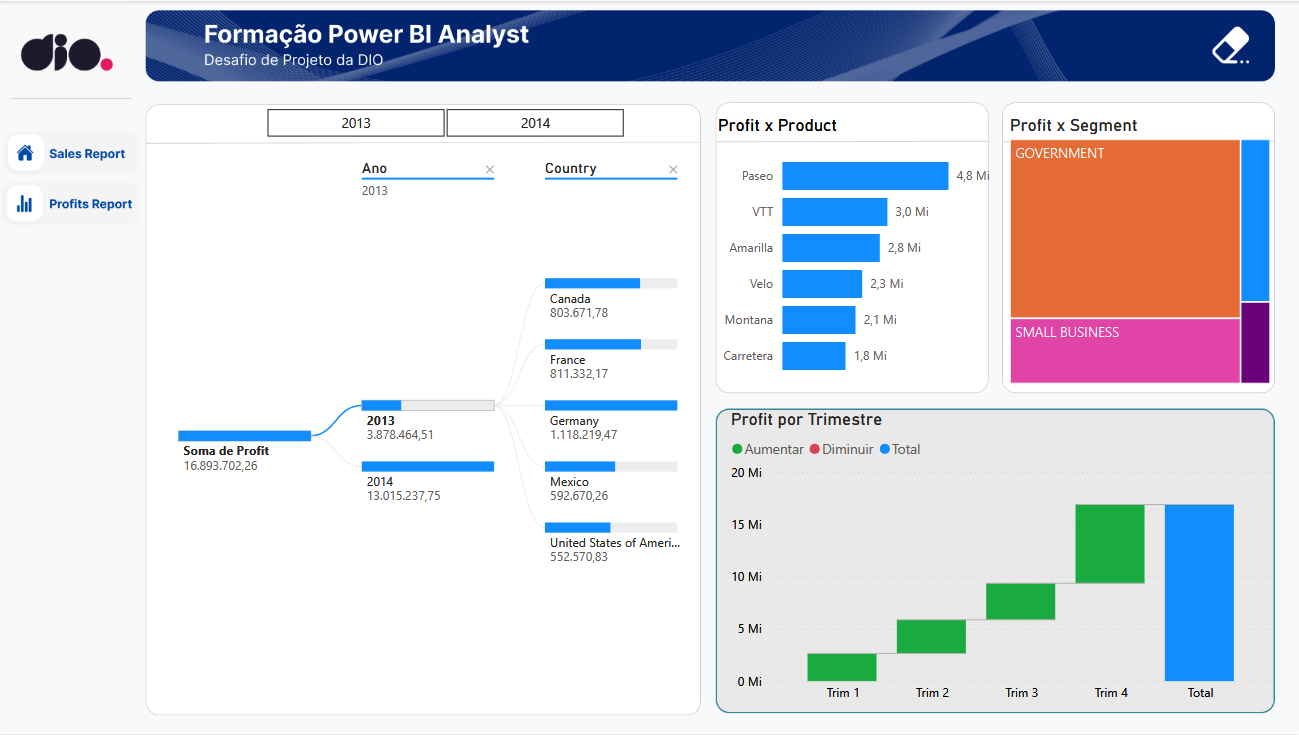

This screenshot's page, from the dashboard's own definition file:
{"tool":"powerbi","page":{"name":"Página 2","canvas":[1280,720],"ordinal":1},"visuals":[{"type":"treemap","title":"Profit x Segment","fields":{"Values":["Sum(financials.Profit)"],"Group":["financials.Segment"]},"box":[990.6,112,265.3,268.7],"z":0},{"type":"actionButton","box":[9.9,127.6,129,45.4],"z":3000},{"type":"waterfallChart","title":"Profit por Trimestre","fields":{"Category":["financials.Date.Variation.Hierarquia de datas.Trimestre"],"Y":["Sum(financials.Profit)"]},"box":[715.7,401.1,541.4,297.6],"z":4000},{"type":"clusteredBarChart","title":"Profit x Product","fields":{"Y":["Sum(financials.Profit)"],"Category":["financials.Product"]},"box":[702.9,112,277.4,270.5],"z":5000},{"type":"decompositionTreeVisual","fields":{"ExplainBy":["financials.Date.Variation.Hierarquia de datas.Ano","financials.Country"],"Analyze":["Sum(financials.Profit)"]},"box":[148.8,138.9,542.8,555.6],"z":6000},{"type":"slicer","fields":{"Values":["financials.Date.Variation.Hierarquia de datas.Ano"]},"box":[239.6,99.3,400.4,39.9],"z":6001},{"type":"actionButton","box":[1176.2,17.1,70.7,57],"z":6002}]}

Visuals, with their boxes on the page's 1280x720 design canvas (x1, y1, x2, y2). These are canvas units, not pixel positions in the 1299x735 screenshot, which may show the page scaled, cropped or inside an application window:
"Profit x Segment" treemap: (991,112,1256,381)
actionButton: (10,128,139,173)
"Profit por Trimestre" waterfallChart: (716,401,1257,699)
"Profit x Product" clusteredBarChart: (703,112,980,382)
decompositionTreeVisual - financials.Date.Variation.Hierarquia de datas.Ano x financials.Country: (149,139,692,694)
slicer - financials.Date.Variation.Hierarquia de datas.Ano: (240,99,640,139)
actionButton: (1176,17,1247,74)
